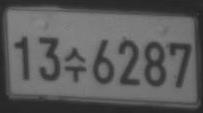1: (11, 36, 31, 81)
2: (117, 39, 141, 86)
3: (37, 35, 61, 81)
6: (91, 38, 115, 84)
7: (167, 42, 192, 87)
8: (144, 40, 167, 86)
수: (63, 45, 87, 83)
